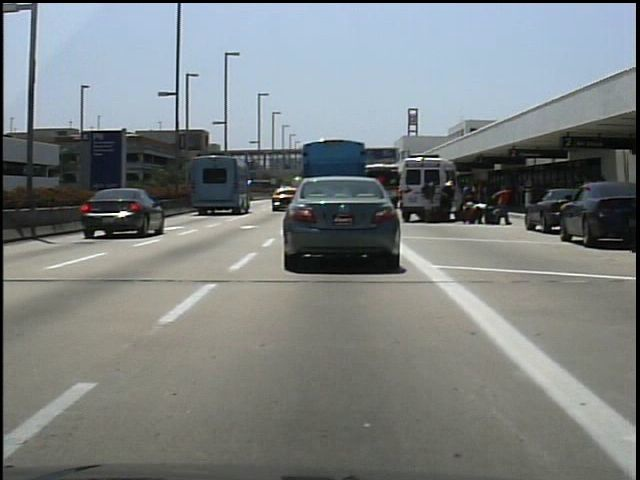person: (437, 176, 459, 226), (419, 174, 440, 224), (470, 178, 492, 224), (494, 182, 514, 229)
